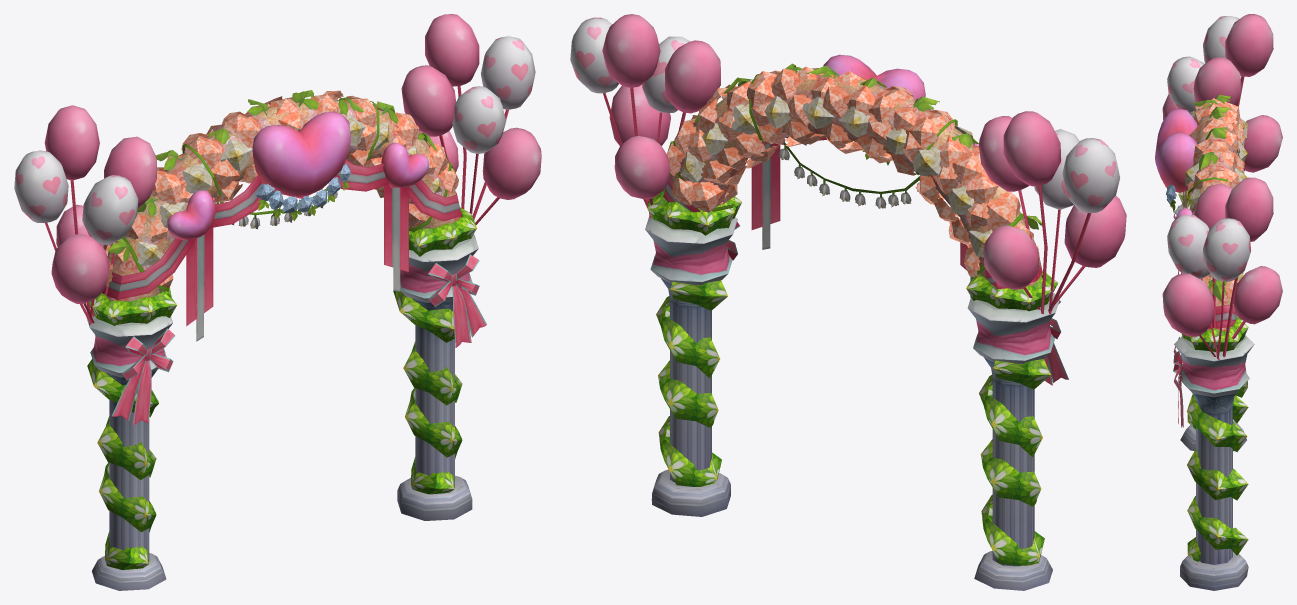
The model's file is jiehun_gongmen.FBX.
3 renders of one model, left to right at view 1: azimuth 30°, elevation 25°; view 2: azimuth 150°, elevation 25°; view 3: azimuth 270°, elevation 25°, orthographic. The views are drawn at different scales.
Parts seen in each view (by area): view 1: jiehun_gongmen; view 2: jiehun_gongmen; view 3: jiehun_gongmen.
Boxes of the visible parts, <box> form: jiehun_gongmen: <box>14,14,541,590</box>; jiehun_gongmen: <box>570,14,1126,590</box>; jiehun_gongmen: <box>1155,14,1282,590</box>.
Size of the model in its own units: 218 by 189 by 52.98.
2 materials, 2 textured.
